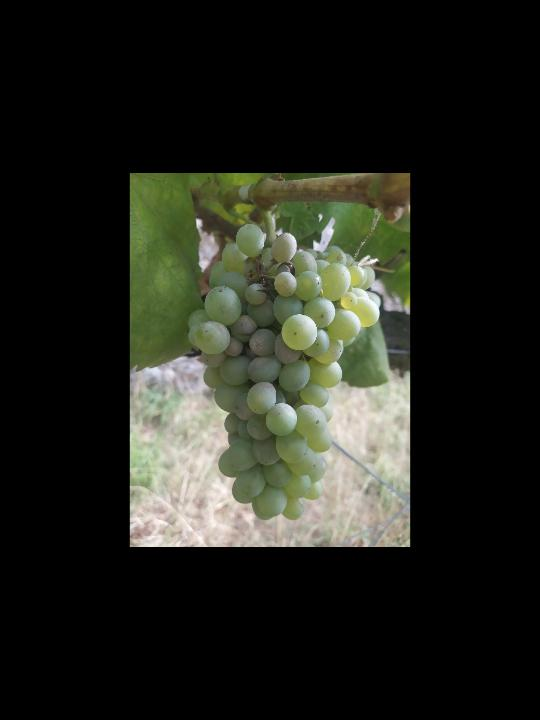grape: (185, 220, 381, 521)
